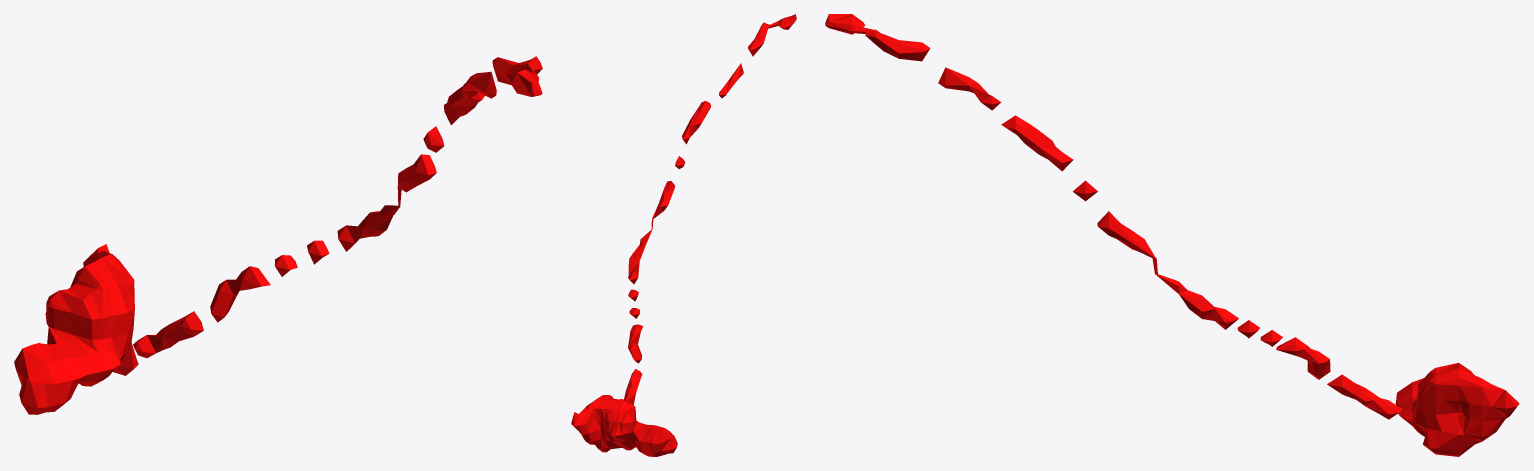
File: kch_coarse.dae
3 renders of one model, left to right at view 1: azimuth 30°, elevation 25°; view 2: azimuth 150°, elevation 25°; view 3: azimuth 270°, elevation 25°, orthographic. The views are drawn at different scales.
Parts seen in each view (by area): view 1: kch; view 2: kch; view 3: kch.
Boxes of the visible parts, left/top/right/bottom form: kch: left=14, top=56, right=542, bottom=414; kch: left=571, top=14, right=796, bottom=456; kch: left=825, top=14, right=1519, bottom=456.
Bounding box in the file's own units: 111 × 266 × 372.
